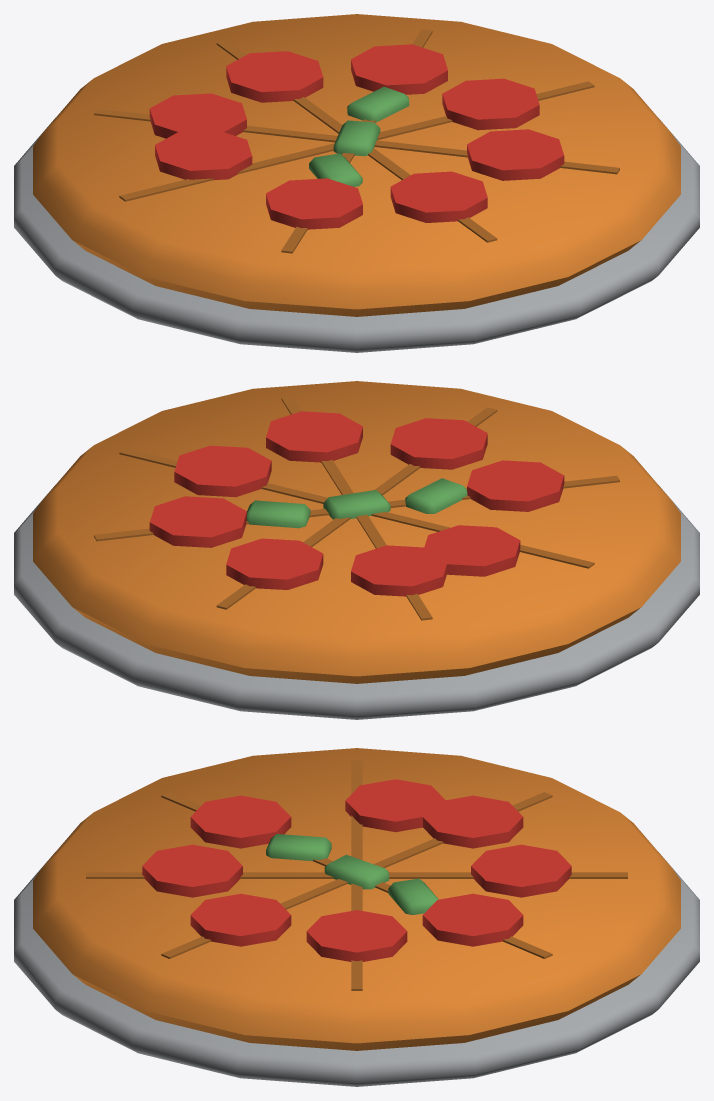
File: SM_Pizza_Whole_01.glb
The picture shows the model from 3 angles, top to bottom: view 1: azimuth 30°, elevation 25°; view 2: azimuth 150°, elevation 25°; view 3: azimuth 270°, elevation 25°; orthographic projection.
Parts seen in each view (by area): view 1: SM_Pizza_Whole_01; view 2: SM_Pizza_Whole_01; view 3: SM_Pizza_Whole_01.
Boxes of the visible parts, x1,y1,x2,y2 form: SM_Pizza_Whole_01: (14,14,699,352); SM_Pizza_Whole_01: (14,381,699,719); SM_Pizza_Whole_01: (14,748,699,1086).
Size of the model in its own units: 0.36 by 0.044 by 0.3545.
Materials: 1 (1 with a texture image).
